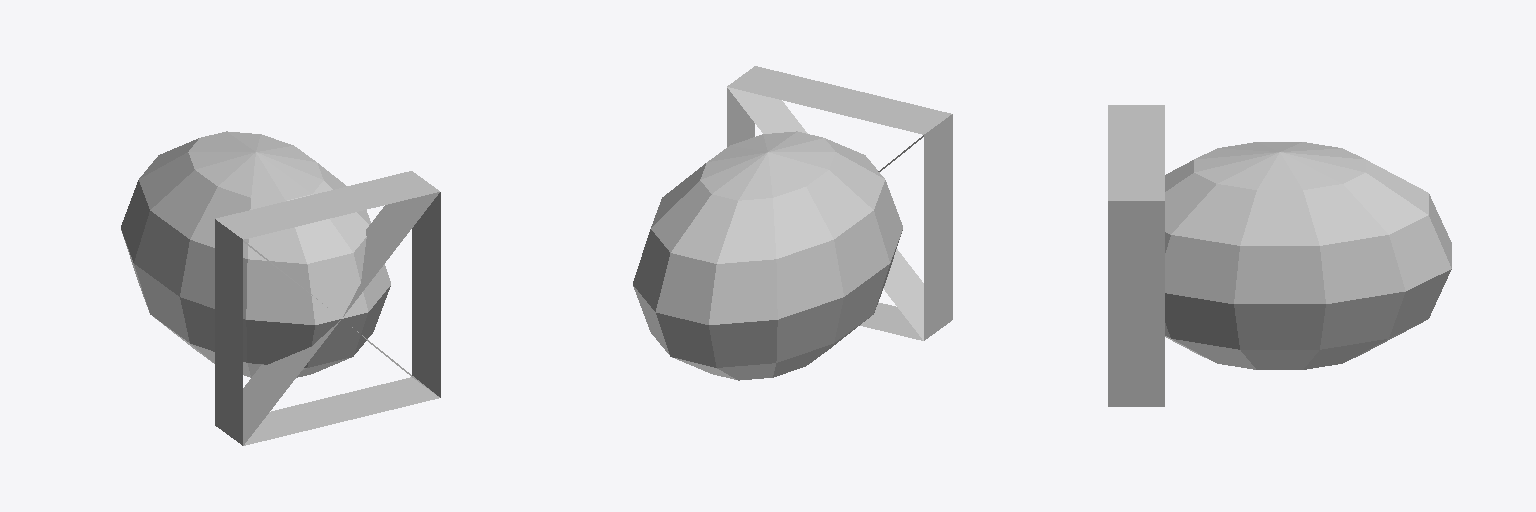
File: caseoh.obj
3 views of the same model, side by side, from view 1: azimuth 30°, elevation 25°; view 2: azimuth 150°, elevation 25°; view 3: azimuth 270°, elevation 25° (orthographic).
Visible parts, largest first — view 1: no_muscle_mass, stabilizer2, inner_stab2, stabilizer; view 2: no_muscle_mass, stabilizer2, inner_stab2, stabilizer; view 3: no_muscle_mass, stabilizer2, stabilizer.
Boxes of the visible parts, x1=… form: no_muscle_mass: x1=121, y1=131, x2=390, y2=377; stabilizer2: x1=215, y1=171, x2=440, y2=445; inner_stab2: x1=243, y1=192, x2=439, y2=445; stabilizer: x1=215, y1=172, x2=440, y2=445; no_muscle_mass: x1=633, y1=131, x2=902, y2=380; stabilizer2: x1=727, y1=66, x2=952, y2=340; inner_stab2: x1=727, y1=87, x2=923, y2=340; stabilizer: x1=727, y1=66, x2=952, y2=340; no_muscle_mass: x1=1165, y1=142, x2=1451, y2=369; stabilizer2: x1=1108, y1=105, x2=1164, y2=406; stabilizer: x1=1108, y1=105, x2=1164, y2=406.
Bounding box in the file's own units: 2 × 2 × 3.